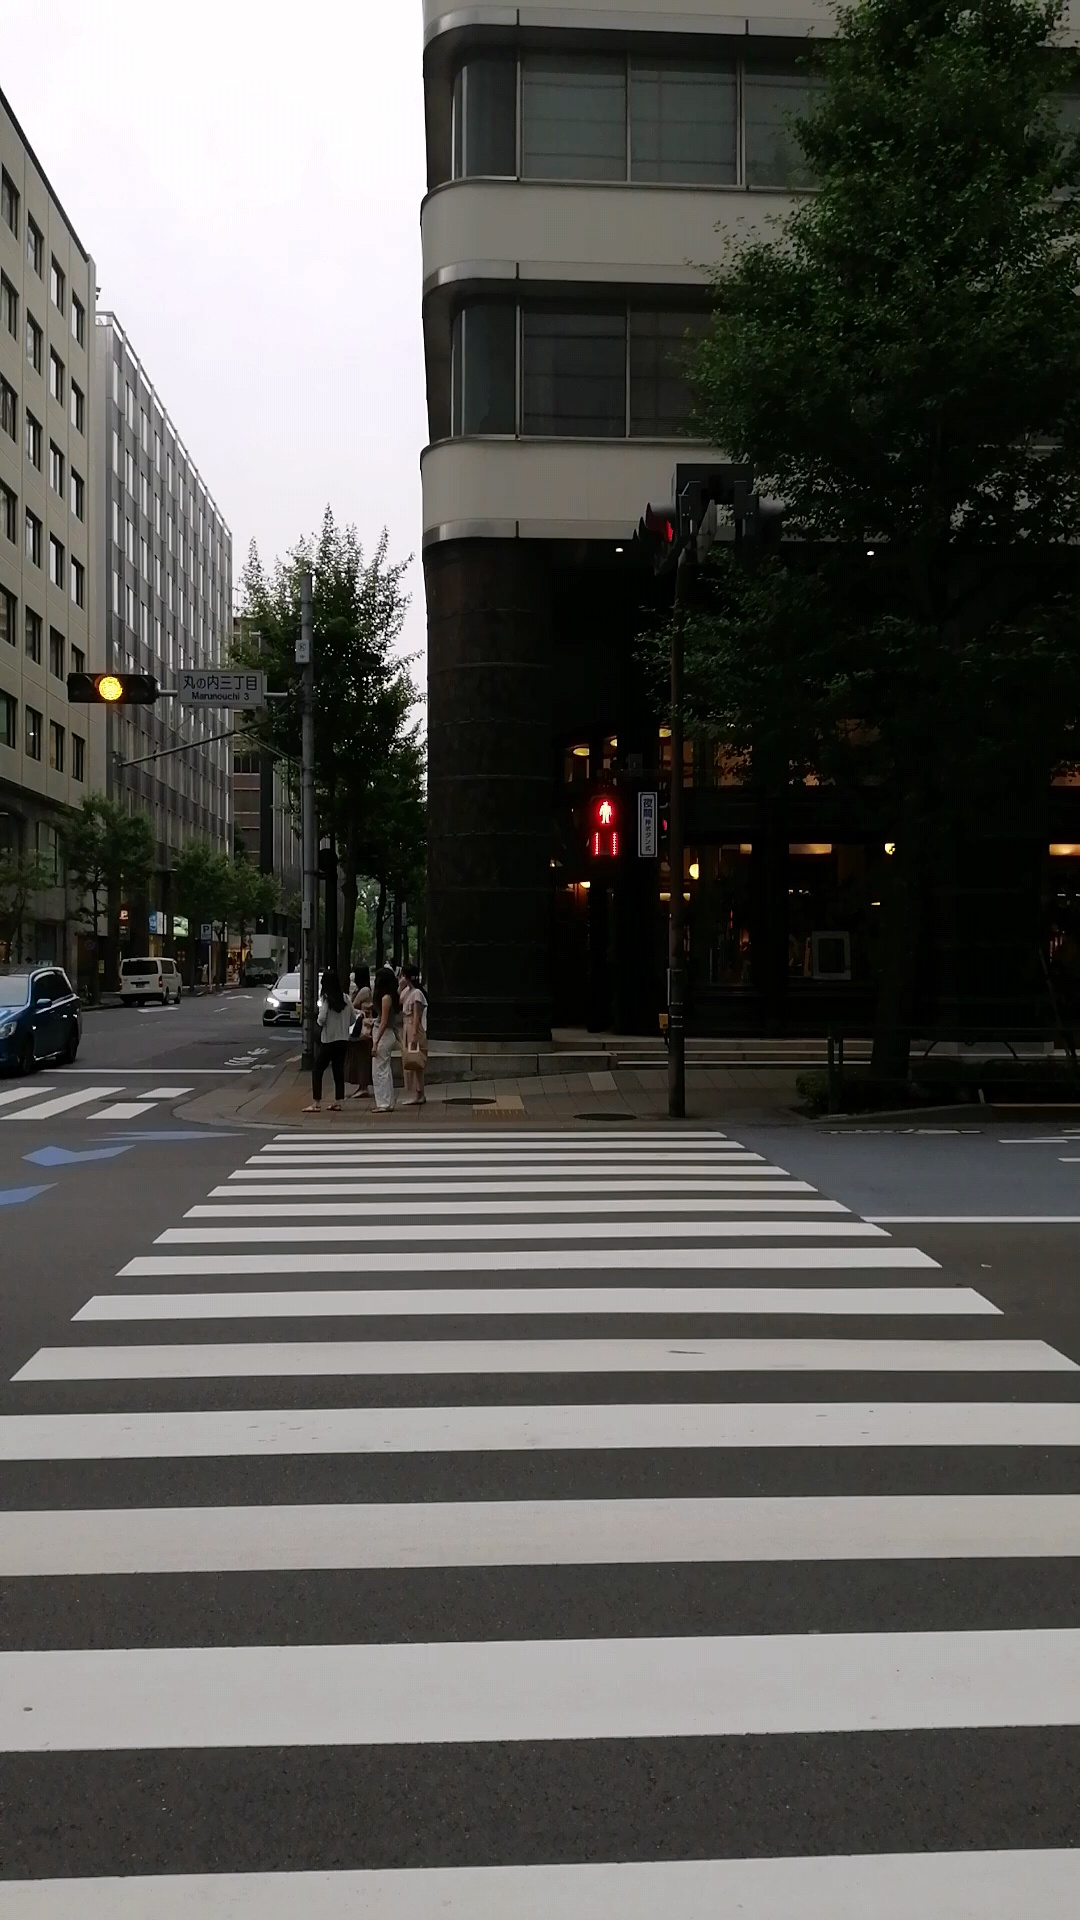red: (583, 789, 626, 861)
